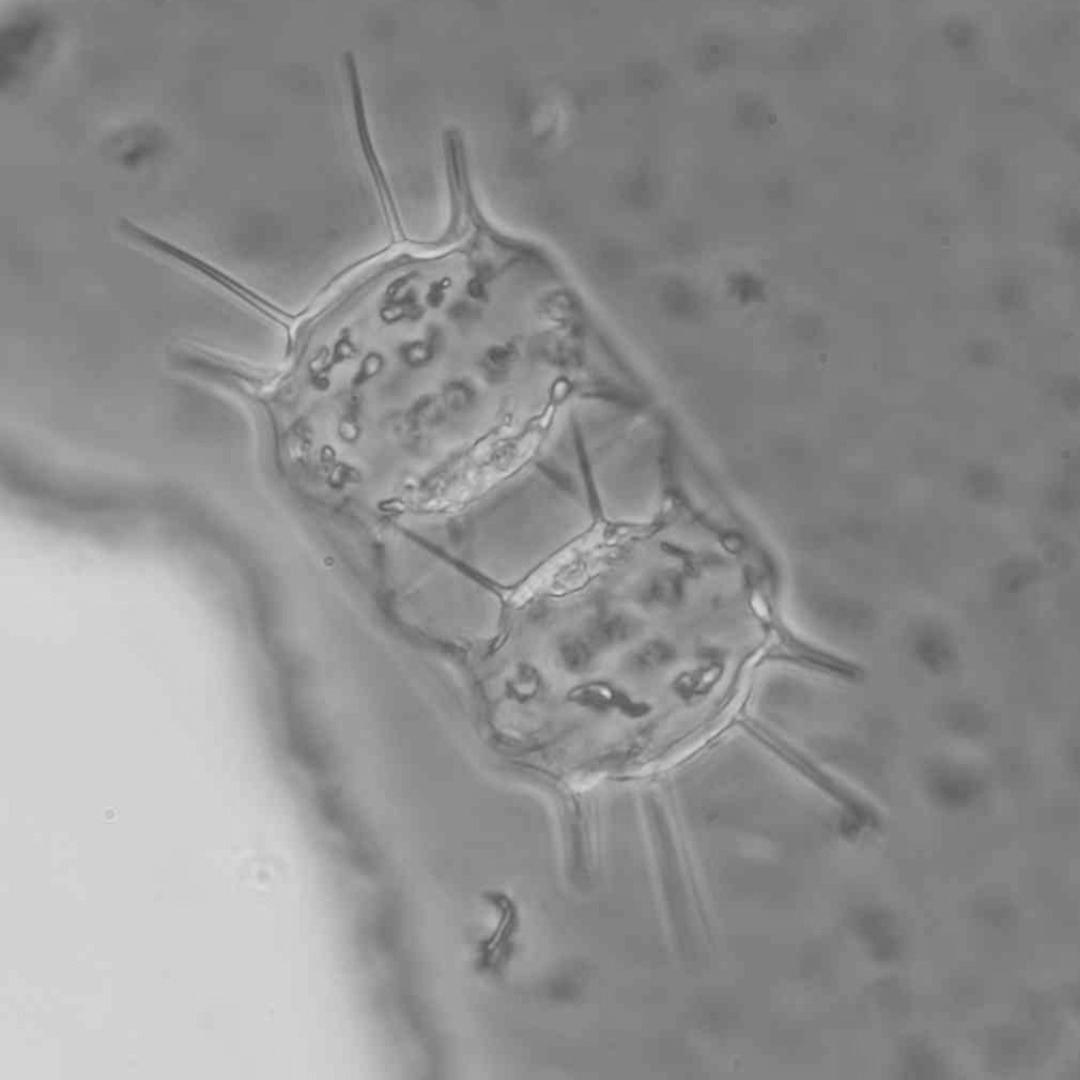odontella_mobiliensis: (121, 50, 658, 611), (387, 415, 879, 917)
